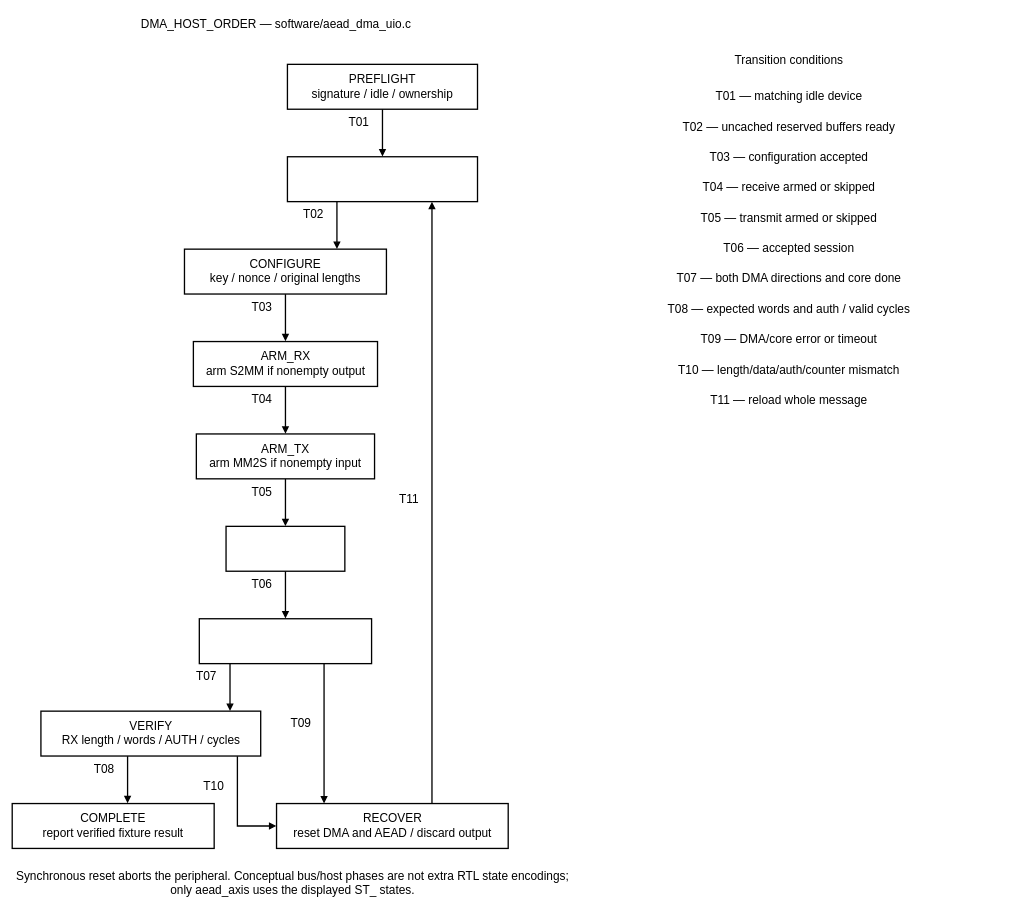
This 1014x912 diagram has some shape labels left out. Each missing label, with the centre of its shape:
"POLL core and DMA concurrently" goes at point 285,641.
"PREPARE pack TX / poison disjoint RX" goes at point 382,179.
"START issue AEAD START" goes at point 285,548.
